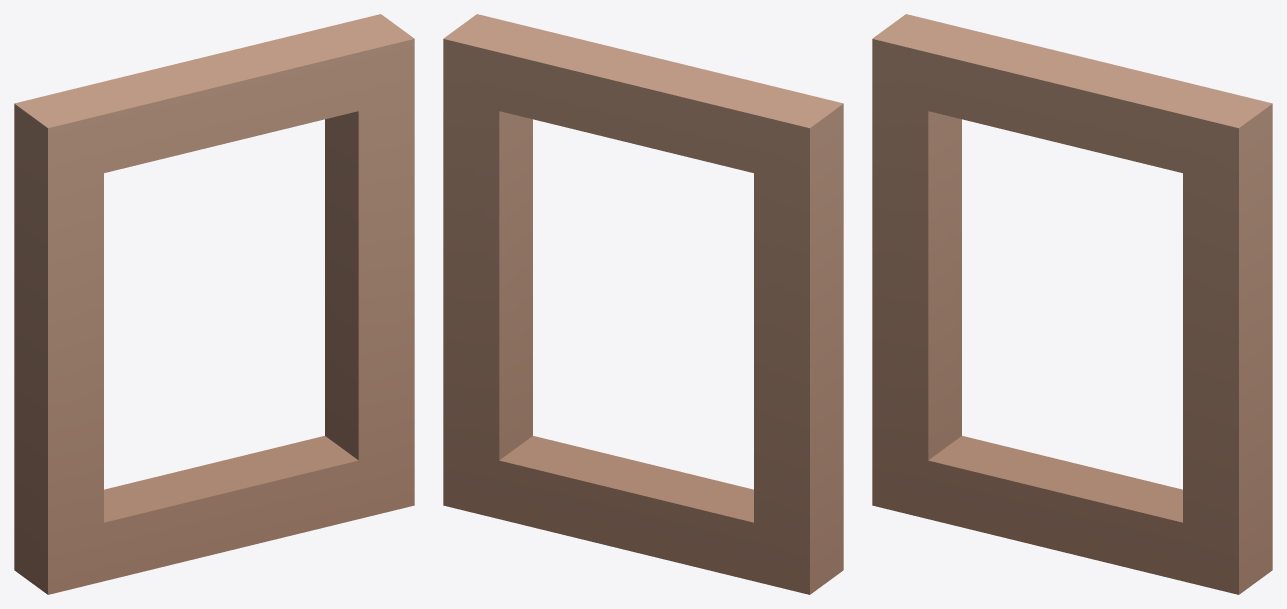
The model's file is window-brown.glb.
3 views of the same model, side by side, from view 1: azimuth 30°, elevation 25°; view 2: azimuth 150°, elevation 25°; view 3: azimuth 330°, elevation 25° (orthographic).
Parts seen in each view (by area): view 1: window-brown; view 2: window-brown; view 3: window-brown.
Boxes of the visible parts, x1,y1,x2,y2 form: window-brown: [14, 14, 414, 594]; window-brown: [443, 14, 843, 594]; window-brown: [872, 14, 1272, 594].
Size of the model in its own units: 0.3125 by 0.38 by 0.05.
